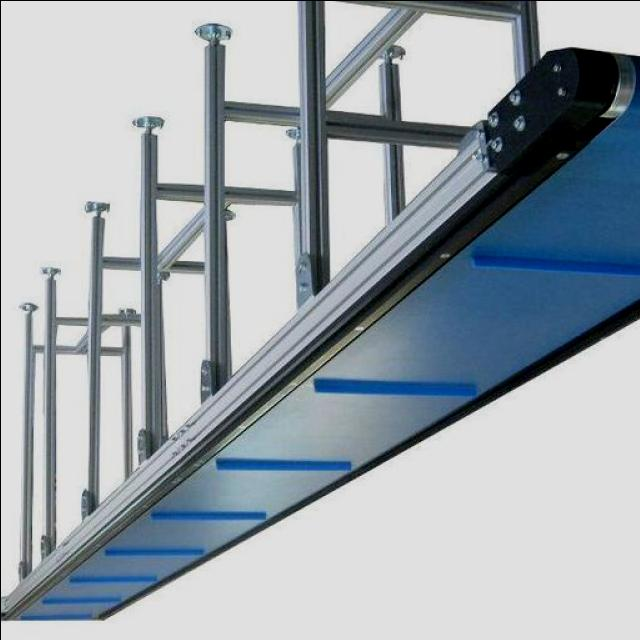conveyor: (3, 64, 640, 620)
